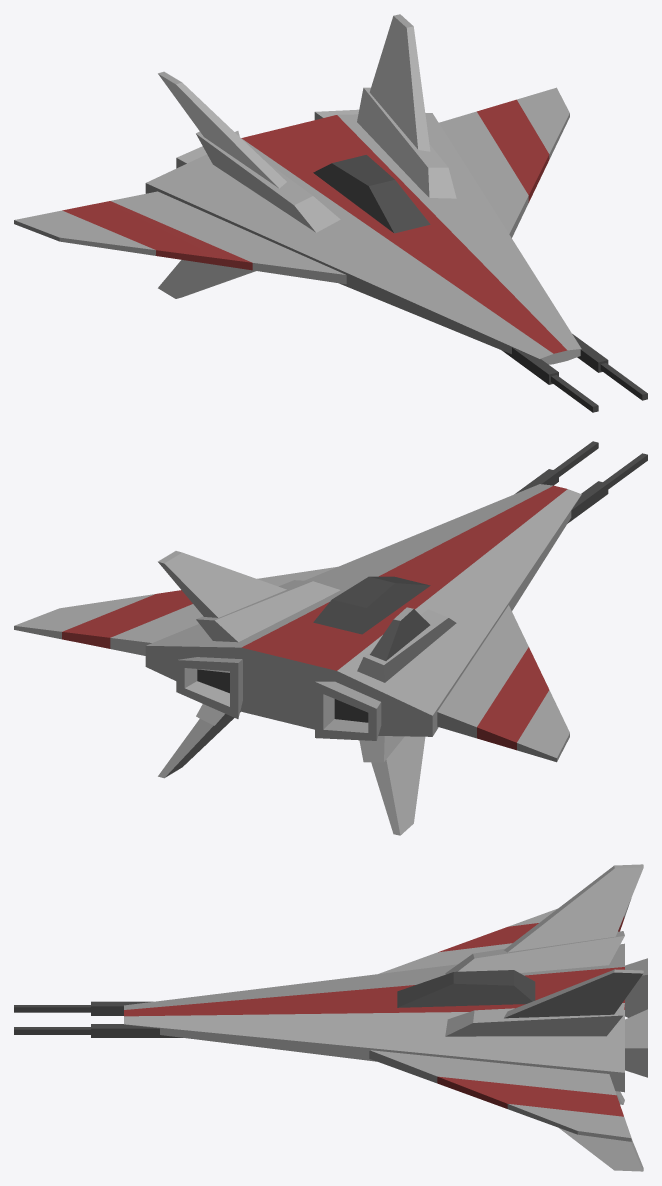
File: Lo_poly_Spaceship_01_by_Liz_Reddington.gltf
3 renders of one model, top to bottom at view 1: azimuth 30°, elevation 25°; view 2: azimuth 150°, elevation 25°; view 3: azimuth 270°, elevation 25°, orthographic. The views are drawn at different scales.
Parts seen in each view (by area): view 1: node-0; view 2: node-0; view 3: node-0.
Boxes of the visible parts, <box> form: node-0: <box>14,14,647,412</box>; node-0: <box>14,441,647,835</box>; node-0: <box>14,864,647,1171</box>.
Bounding box in the file's own units: 677 × 256 × 743.
